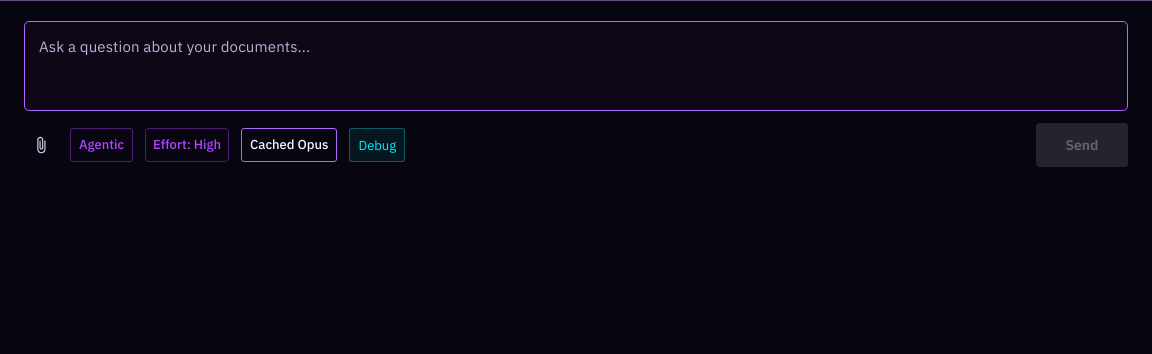
Test case: does not offer cached native choices as fresh after a catalog refresh fails
The image size is (1152, 354).
What coordinates should you click on to do the following:
click the button "Cached Opus"
I would click on:
 (289, 145)
Its box is x1=241 y1=128 x2=337 y2=162.
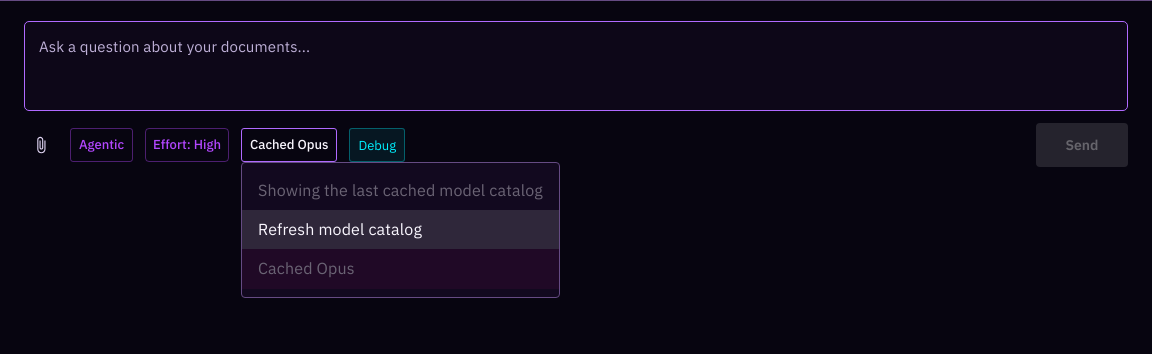
What coordinates should you click on to do the following:
click the menu item "Refresh model catalog"
I would click on:
 (400, 230)
Its box is x1=242 y1=210 x2=559 y2=249.
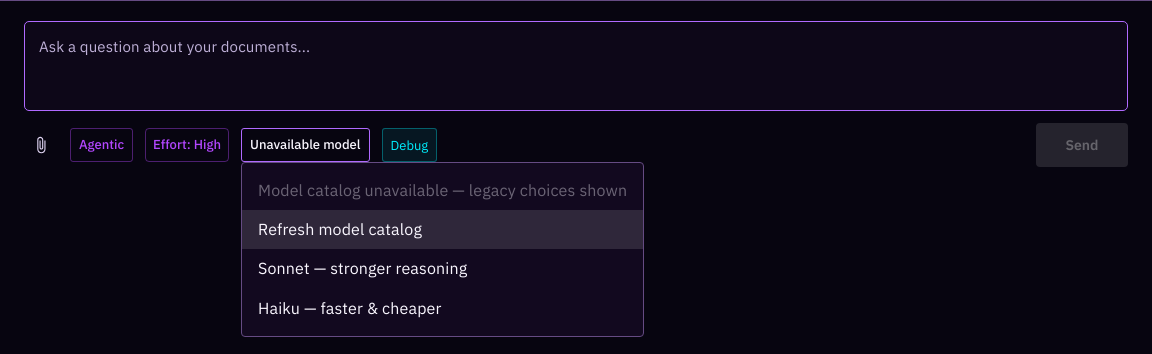
Expected: the menu item "Model catalog unavailable — legacy choices shown" is shown, x1=258 y1=180 x2=627 y2=200
Expected: the menu item "Sonnet — stronger reasoning" is shown, x1=258 y1=258 x2=467 y2=278
Expected: the button "Cached Opus" is gone
